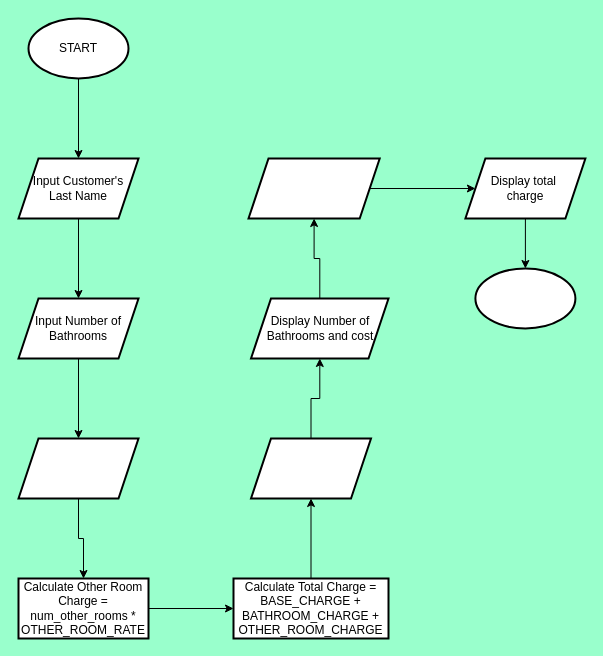
Image size: 603x656. Some labels were removed from this diagram. The shapes that lost their labels are listed below. From the top down, each one's box as (x1, y1, x2, y2) in pixels, then its label:
(247, 157, 380, 219): Display Number of other rooms and cost
(474, 267, 576, 329): END
(17, 437, 139, 499): Input Number of Other Rooms
(250, 437, 372, 499): Display Customers Name
